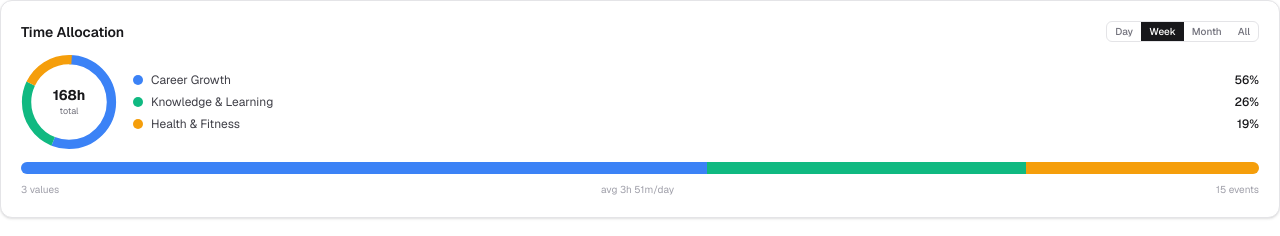
Test: TimeAllocation component › period switching › fetches with the correct period when switching to "day"
Expected: the text "168h" is shown, [53,85,85,105]
Step 1. Click the button "day" → (1124, 32), box [1107,22,1141,41]
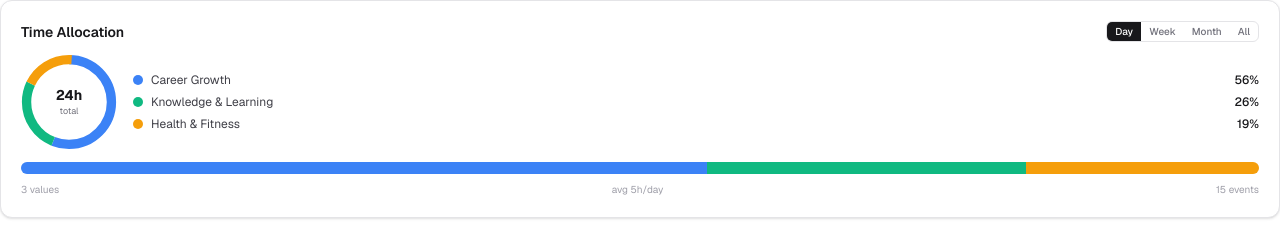
Expected: the text "24h" is shown, [56,85,82,105]
